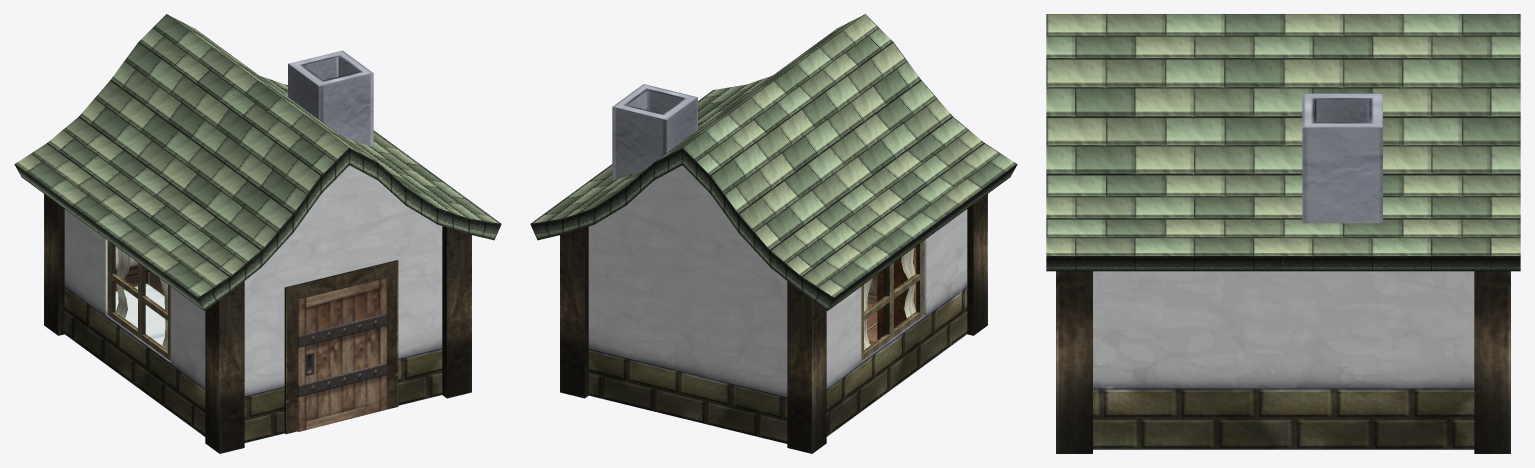
File: M12_house02.fbx
3 renders of one model, left to right at view 1: azimuth 30°, elevation 25°; view 2: azimuth 150°, elevation 25°; view 3: azimuth 270°, elevation 25°, orthographic. The views are drawn at different scales.
Parts seen in each view (by area): view 1: ceiling, room, door; view 2: room, ceiling; view 3: ceiling, room.
Part boxes in pixels (x1,y1,x2,y2): ceiling: [14, 14, 501, 310]; room: [44, 165, 471, 453]; door: [297, 278, 386, 431]; room: [560, 165, 987, 453]; ceiling: [530, 14, 1017, 310]; ceiling: [1046, 14, 1520, 271]; room: [1056, 271, 1510, 453].
Size of the model in its own units: 40.54 by 35.38 by 42.19.
